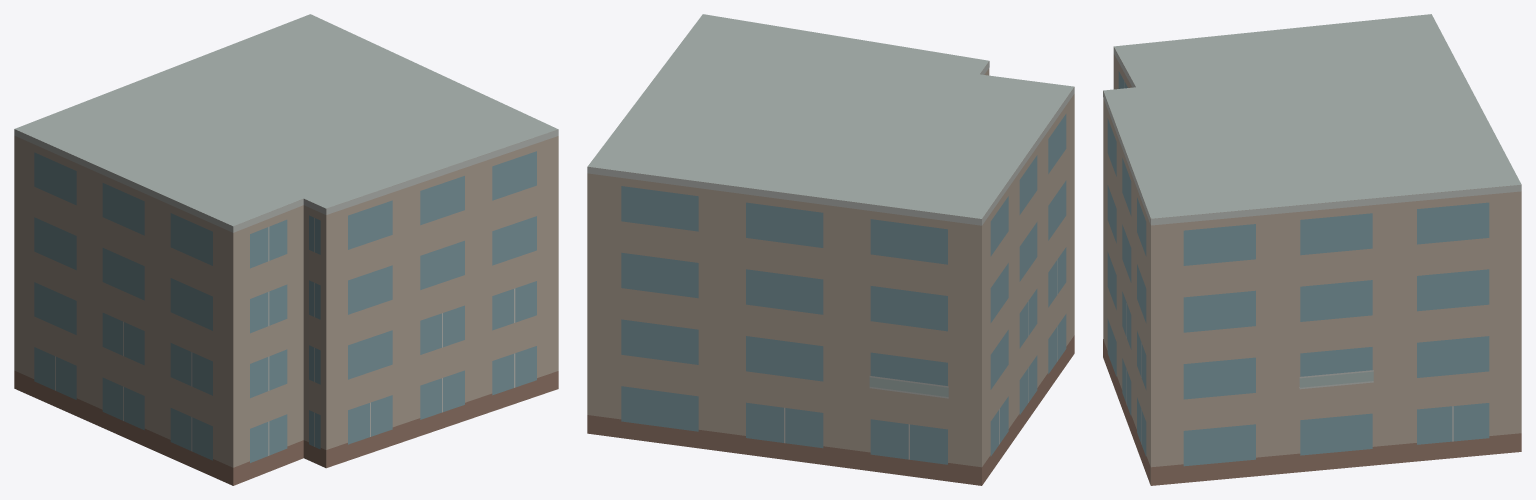
File: survey-upis-32850693.glb
3 views of the same model, side by side, from view 1: azimuth 30°, elevation 25°; view 2: azimuth 150°, elevation 25°; view 3: azimuth 270°, elevation 25° (orthographic). The views are drawn at different scales.
Visible parts, largest first — view 1: survey-upis-32850693.tmp; view 2: survey-upis-32850693.tmp; view 3: survey-upis-32850693.tmp.
Part boxes in pixels (x1,y1,x2,y2): survey-upis-32850693.tmp: (14, 14, 558, 485); survey-upis-32850693.tmp: (587, 14, 1074, 485); survey-upis-32850693.tmp: (1103, 14, 1521, 485).
Bounding box in the file's own units: 15.96 × 9.7 × 13.79.
